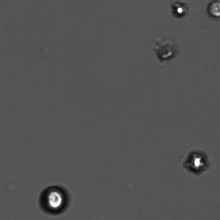Dead Cell: (151, 35, 178, 68)
Living Cell: (35, 184, 72, 215), (180, 146, 211, 174), (170, 3, 190, 20)
